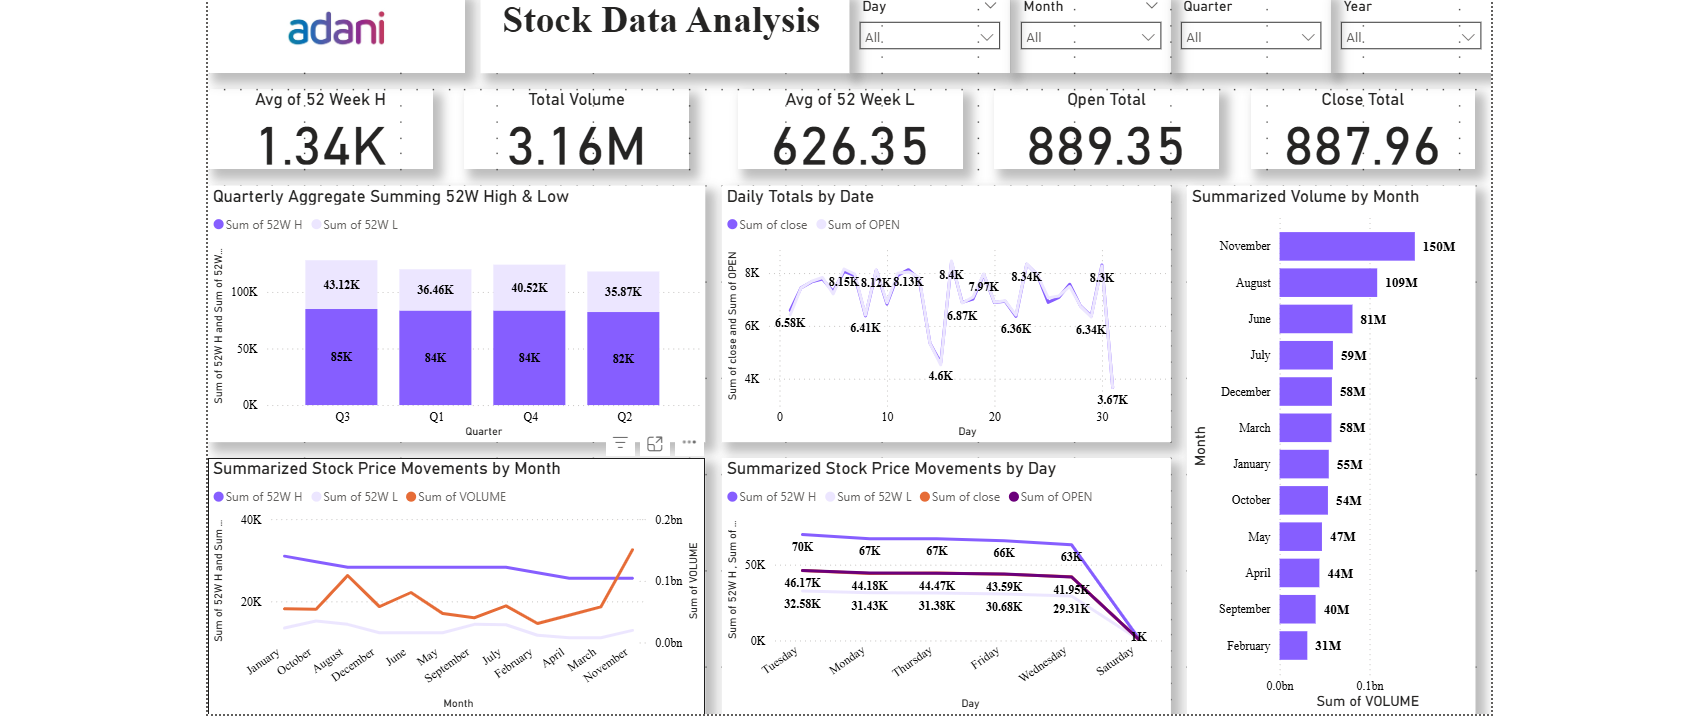

The page's visual inventory and layout, read from the dashboard file:
{"tool":"powerbi","page":{"name":"Page 1","canvas":[1280,720],"ordinal":0},"visuals":[{"type":"slicer","fields":{"Values":["Adani.Month"]},"box":[800,0,160,80],"z":0},{"type":"slicer","fields":{"Values":["Adani.Quarter"]},"box":[960,0,160,80],"z":1000},{"type":"slicer","fields":{"Values":["Adani.Day"]},"box":[640,0,160,80],"z":2000},{"type":"slicer","fields":{"Values":["Adani.Year"]},"box":[1120,0,160,80],"z":3000},{"type":"card","title":"Avg of 52 Week H","fields":{"Values":["Avg(Adani.52W H )"]},"box":[0,96,224,80],"z":4000},{"type":"card","title":"Avg of 52 Week L","fields":{"Values":["Avg(Adani.52W L )"]},"box":[528,96,224,80],"z":5000},{"type":"card","title":"Close Total","fields":{"Values":["Avg(Adani.close )"]},"box":[1040,96,224,80],"z":6000},{"type":"card","title":"Open Total","fields":{"Values":["Avg(Adani.OPEN )"]},"box":[784,96,224,80],"z":7000},{"type":"card","title":"Total Volume","fields":{"Values":["Avg(Adani.VOLUME )"]},"box":[256,96,224,80],"z":8000},{"type":"columnChart","title":"Quarterly Aggregate Summing 52W High & Low","fields":{"Y":["Sum(Adani.52W H )","Sum(Adani.52W L )"],"Category":["Adani.Quarter"]},"box":[0,192,496,256],"z":9000},{"type":"lineChart","title":"Summarized Stock Price Movements by Month","fields":{"Category":["Adani.Month"],"Y":["Sum(Adani.52W H )","Sum(Adani.52W L )"],"Y2":["Sum(Adani.VOLUME )"]},"box":[0,464,496,256],"z":10000},{"type":"lineChart","title":"Daily Totals by Date","fields":{"Category":["Adani.Date .Variation.Date Hierarchy.Day"],"Y":["Sum(Adani.close )","Sum(Adani.OPEN )"]},"box":[512,192,448,256],"z":11000},{"type":"lineChart","title":"Summarized Stock Price Movements by Day","fields":{"Y":["Sum(Adani.52W H )","Sum(Adani.52W L )","Sum(Adani.close )","Sum(Adani.OPEN )"],"Category":["Adani.Day"]},"box":[512,464,448,256],"z":12000},{"type":"clusteredBarChart","title":"Summarized Volume by Month","fields":{"Category":["Adani.Month"],"Y":["Sum(Adani.VOLUME )"]},"box":[976,192,288,528],"z":13000},{"type":"image","box":[0,0,256,80],"z":14000},{"type":"textbox","box":[272,0,368,80],"z":15000}]}

Visuals, with their boxes on the page's 1280x720 design canvas (x1, y1, x2, y2). These are canvas units, not pixel positions in the 1696x721 screenshot, which may show the page scaled, cropped or inside an application window:
slicer - Adani.Month: bbox=[800, 0, 960, 80]
slicer - Adani.Quarter: bbox=[960, 0, 1120, 80]
slicer - Adani.Day: bbox=[640, 0, 800, 80]
slicer - Adani.Year: bbox=[1120, 0, 1280, 80]
"Avg of 52 Week H" card: bbox=[0, 96, 224, 176]
"Avg of 52 Week L" card: bbox=[528, 96, 752, 176]
"Close Total" card: bbox=[1040, 96, 1264, 176]
"Open Total" card: bbox=[784, 96, 1008, 176]
"Total Volume" card: bbox=[256, 96, 480, 176]
"Quarterly Aggregate Summing 52W High & Low" columnChart: bbox=[0, 192, 496, 448]
"Summarized Stock Price Movements by Month" lineChart: bbox=[0, 464, 496, 720]
"Daily Totals by Date" lineChart: bbox=[512, 192, 960, 448]
"Summarized Stock Price Movements by Day" lineChart: bbox=[512, 464, 960, 720]
"Summarized Volume by Month" clusteredBarChart: bbox=[976, 192, 1264, 720]
image: bbox=[0, 0, 256, 80]
textbox: bbox=[272, 0, 640, 80]
